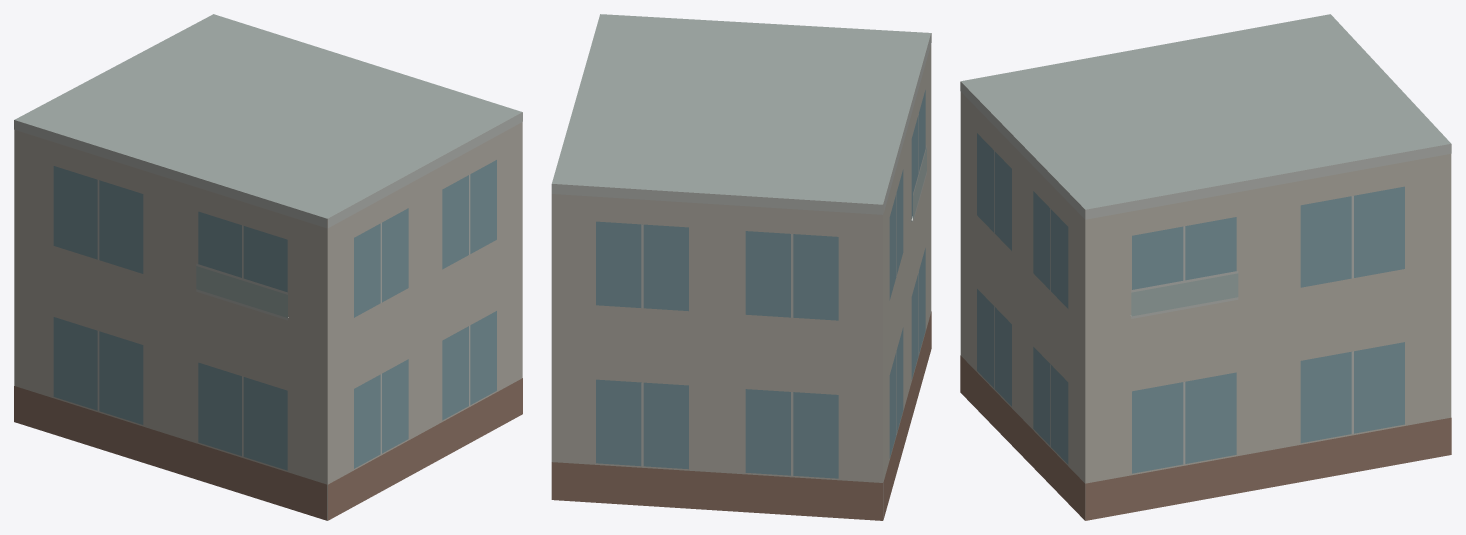
The model's file is survey-upis-32926254.glb.
The picture shows the model from 3 angles, left to right: view 1: azimuth 30°, elevation 25°; view 2: azimuth 150°, elevation 25°; view 3: azimuth 270°, elevation 25°; orthographic projection. The views are drawn at different scales.
Visible parts, largest first — view 1: survey-upis-32926254.tmp; view 2: survey-upis-32926254.tmp; view 3: survey-upis-32926254.tmp.
Boxes of the visible parts, x1,y1,x2,y2 form: survey-upis-32926254.tmp: (14,14,522,520); survey-upis-32926254.tmp: (551,14,931,520); survey-upis-32926254.tmp: (960,14,1451,520).
Bounding box in the file's own units: 10.26 × 7.6 × 10.88.
